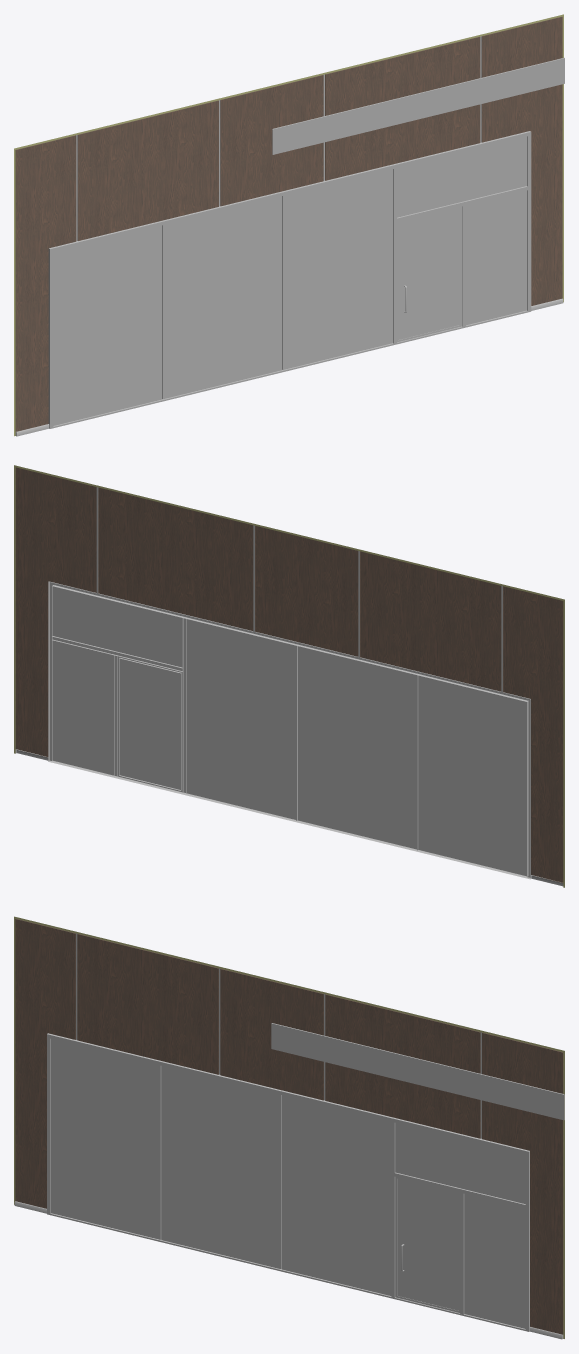
The picture shows the model from 3 angles, top to bottom: view 1: azimuth 30°, elevation 25°; view 2: azimuth 150°, elevation 25°; view 3: azimuth 330°, elevation 25°; orthographic projection.
Visible parts, largest first — view 1: M_W_002_b_16x8; view 2: M_W_002_b_16x8; view 3: M_W_002_b_16x8.
Boxes of the visible parts, x1,y1,x2,y2 form: M_W_002_b_16x8: (14, 14, 564, 436); M_W_002_b_16x8: (14, 465, 564, 887); M_W_002_b_16x8: (14, 916, 564, 1339).
Size of the model in its own units: 16 by 8 by 0.1235.
